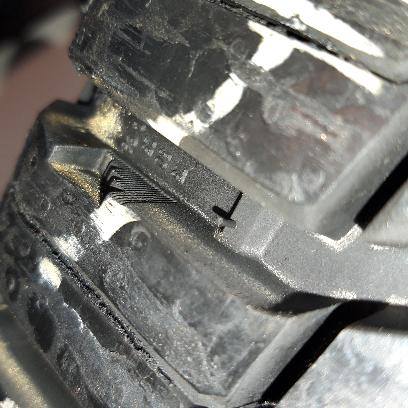temoin:100: (46, 141, 180, 214)
